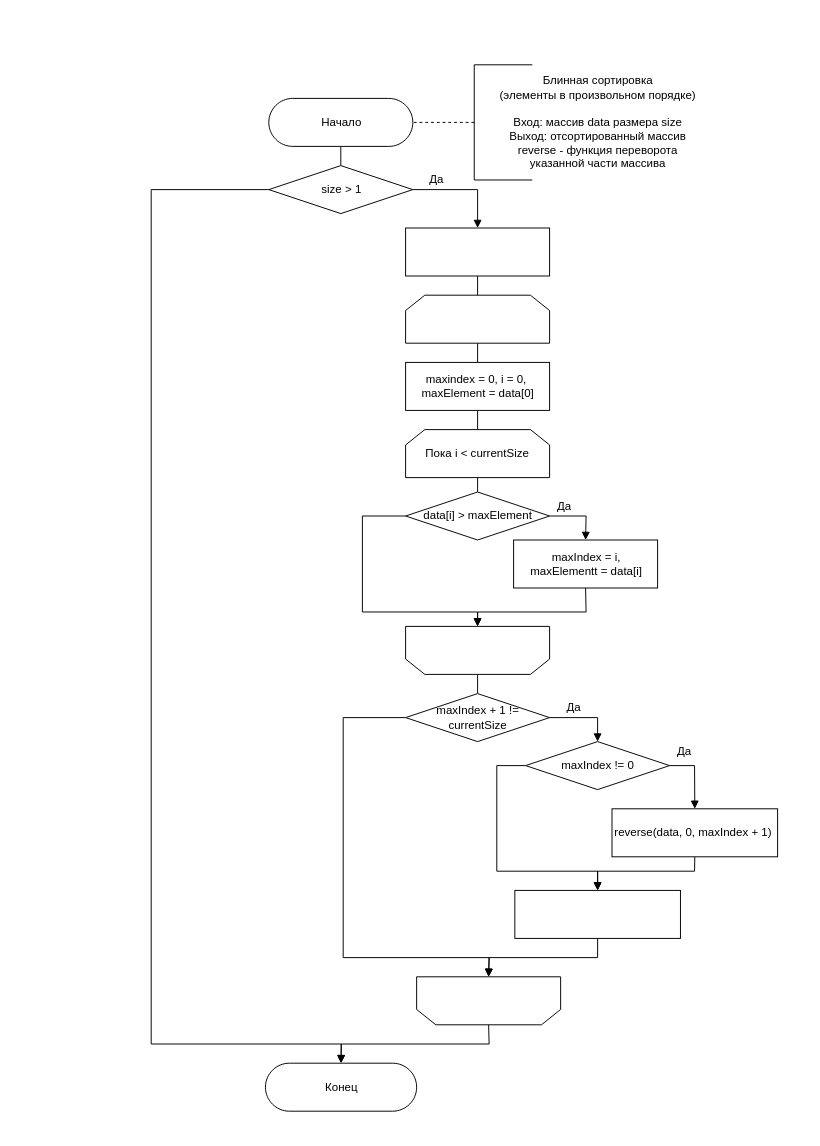
Some shapes in this 820 by 1146 pixel diagram are drawn without their labels. Each missing label, with the centre of its shape:
currentSize -= 1: the point at 488,1000
currentSize = size: the point at 477,251
i += 1: the point at 477,649
reverse(data, 0, currentSize): the point at 597,913
Пока currentSize > 1: the point at 477,318
